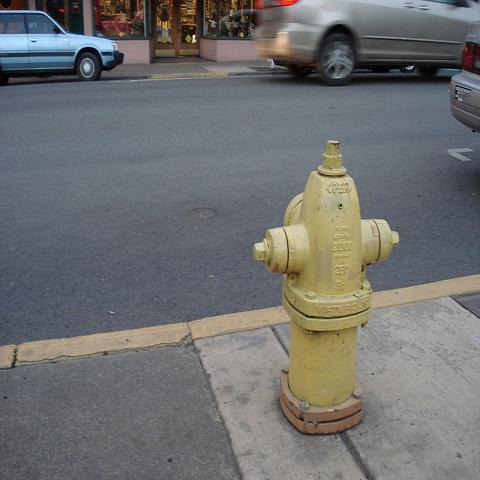car: (248, 2, 479, 88), (0, 9, 124, 88), (450, 20, 479, 138)
